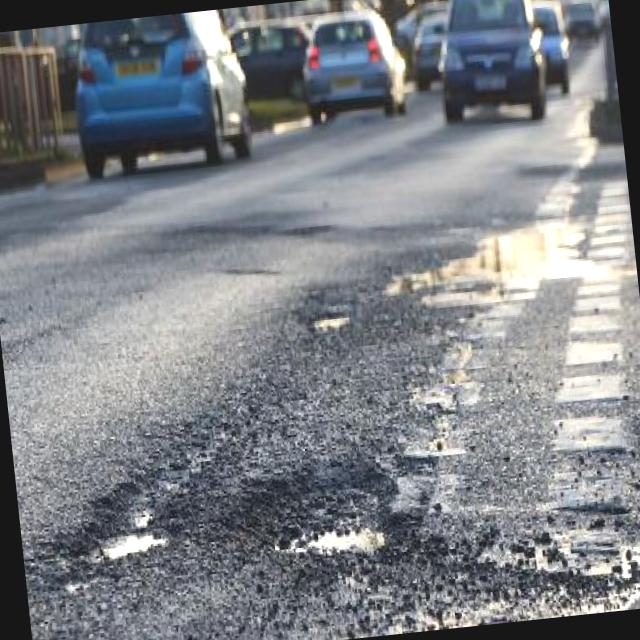Lubang: (79, 483, 167, 563), (274, 523, 386, 555), (309, 307, 350, 333)
